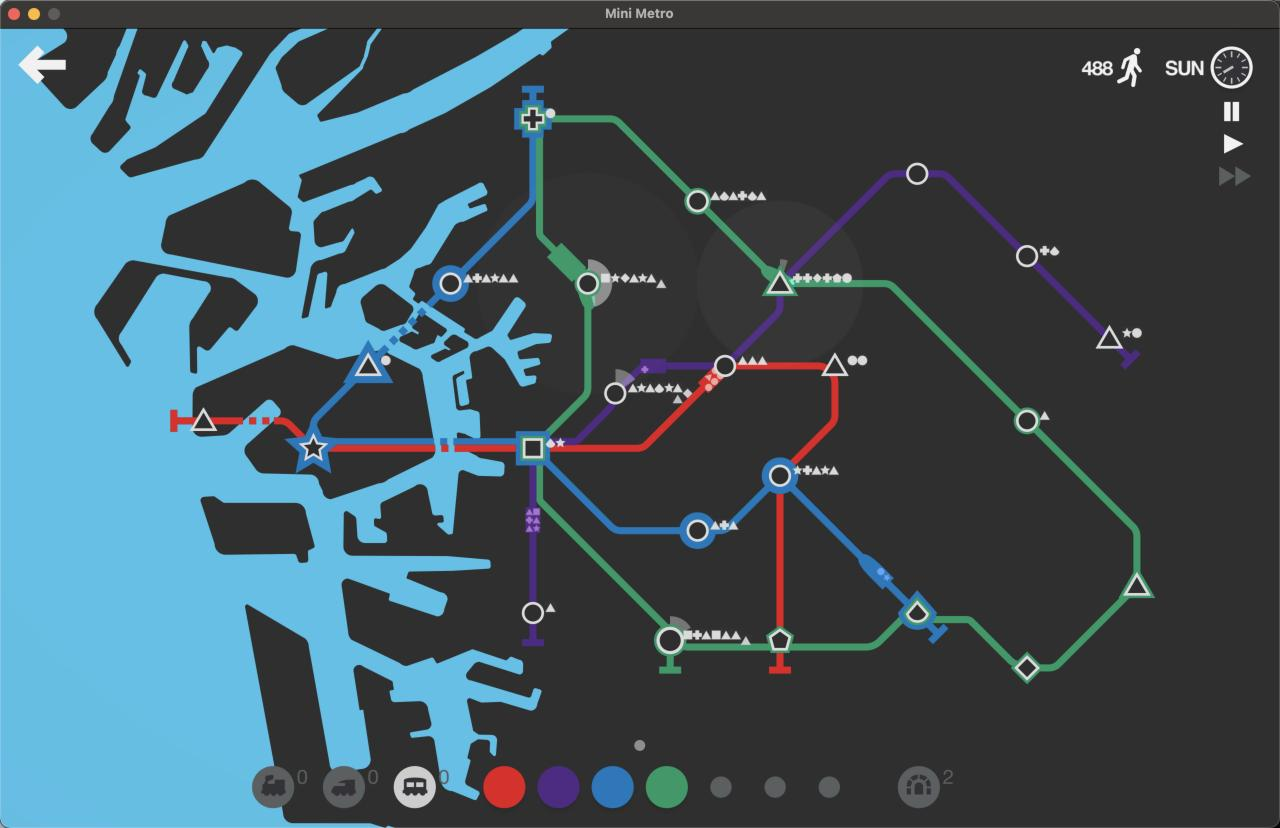CIRCLE: (680, 512, 716, 549), (654, 625, 686, 656), (1015, 408, 1041, 434), (685, 188, 710, 214), (576, 271, 601, 296), (521, 601, 546, 625), (768, 464, 793, 488), (603, 382, 627, 406), (713, 354, 737, 378), (1015, 244, 1039, 268), (438, 271, 462, 295), (906, 162, 929, 186)
CROSS: (520, 107, 546, 132)
GEM: (1013, 652, 1041, 684)
PENTAGON: (766, 626, 793, 653)
SQUARE: (521, 436, 545, 461)
STAR: (297, 433, 329, 463)
TRIANGLE: (763, 264, 797, 296), (1120, 572, 1154, 599), (190, 407, 218, 435), (353, 352, 383, 378), (1095, 324, 1122, 351), (821, 351, 849, 377)
WEDGE: (904, 599, 929, 624)
